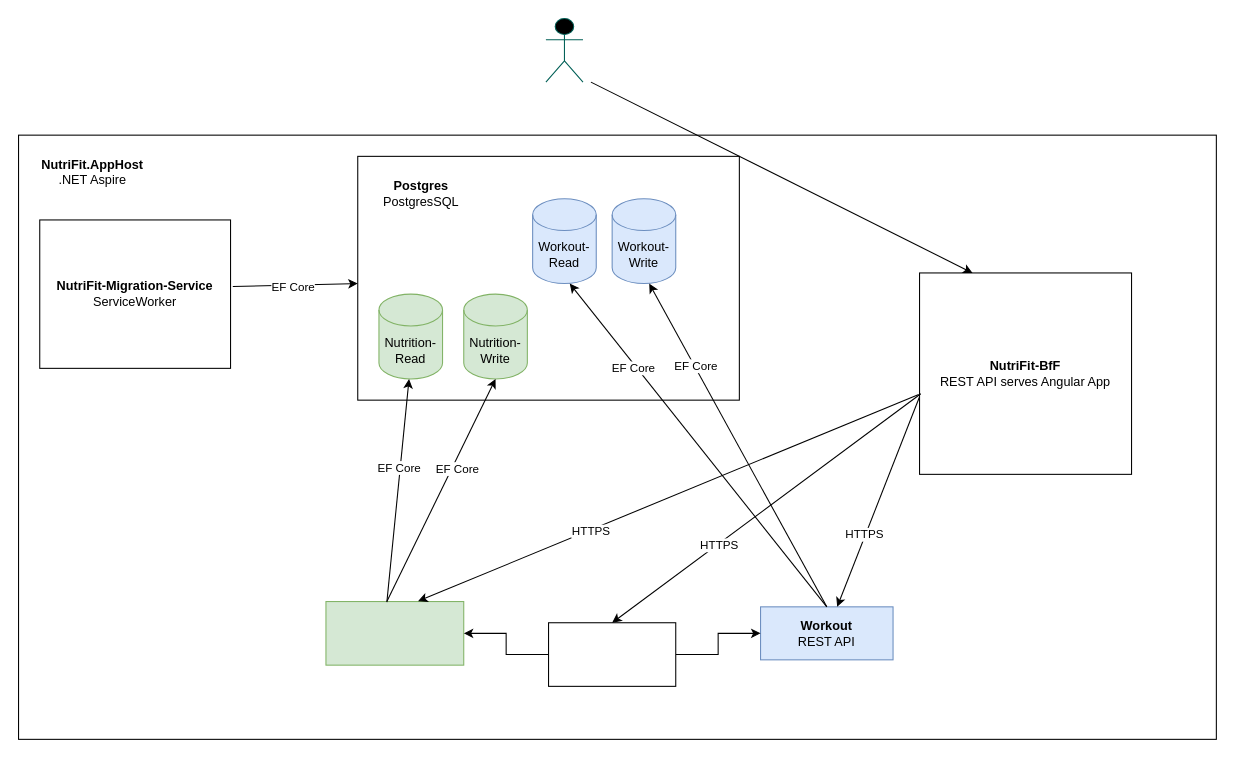
The diagram is 1235 pixels wide and 758 high, and some of its shapes have lost their labels. The centre of each missing label's shape, as x and y in pixels:
"Dashboard REST API" goes at [611,654].
"Nutrition REST API" goes at [394,632].
"User" goes at [564,49].
